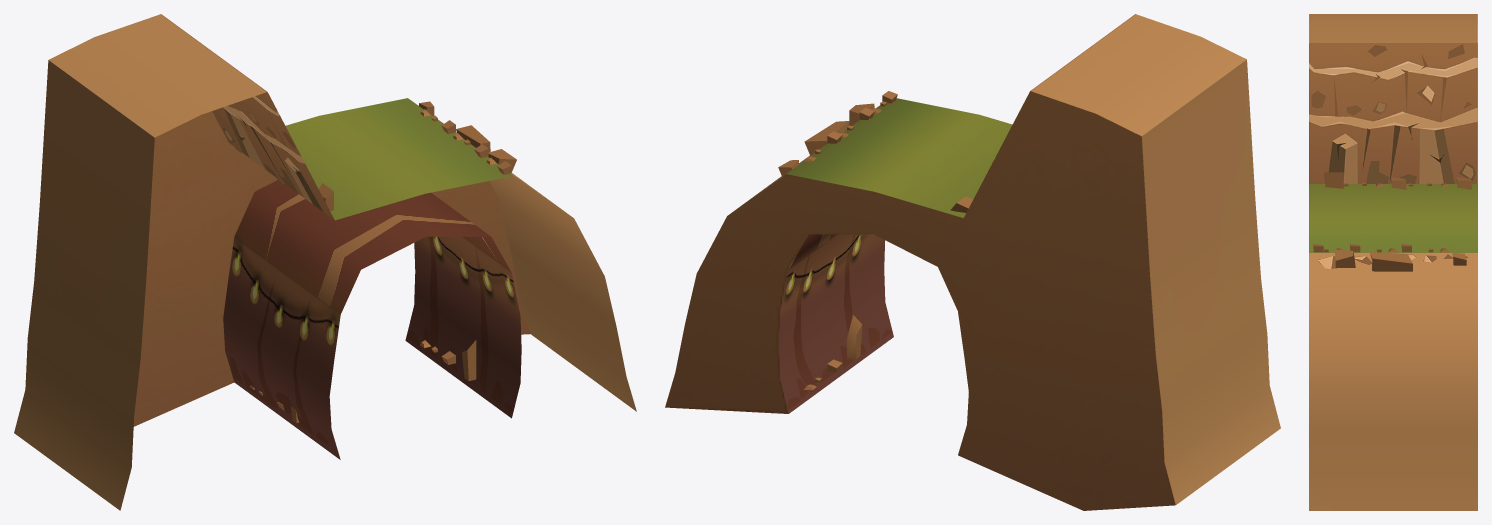
The model's file is nuiham1.fbx.
3 views of the same model, side by side, from view 1: azimuth 30°, elevation 25°; view 2: azimuth 150°, elevation 25°; view 3: azimuth 270°, elevation 25° (orthographic). The views are drawn at different scales.
Parts seen in each view (by area): view 1: pCube114; view 2: pCube114; view 3: pCube114.
Part boxes in pixels (x1,y1,x2,y2): pCube114: (14,14,636,510); pCube114: (665,14,1280,510); pCube114: (1309,14,1477,510).
Size of the model in its own units: 69.57 by 52.96 by 24.83.
